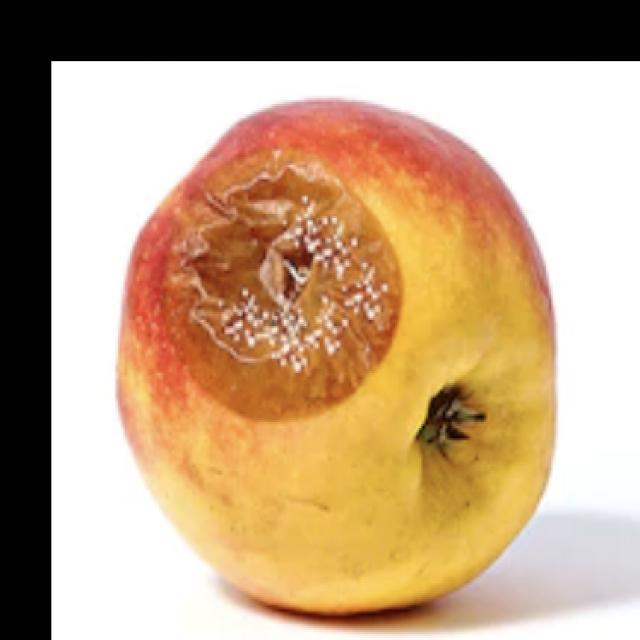Rotten: (134, 91, 568, 622)
